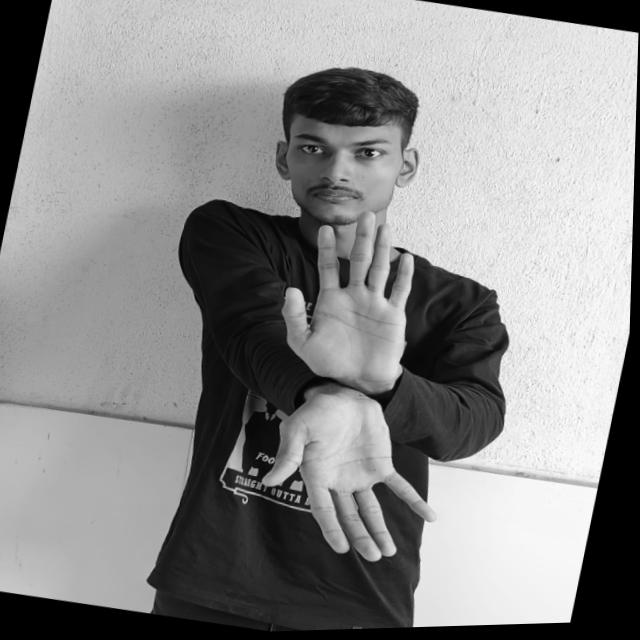Morning: (235, 196, 510, 580)
